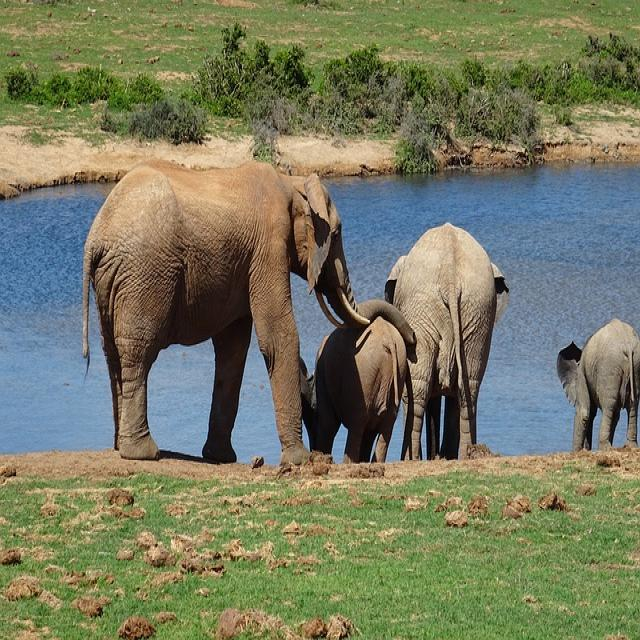FIL: (87, 155, 357, 475), (386, 222, 499, 464), (319, 318, 401, 463), (555, 316, 640, 455)
